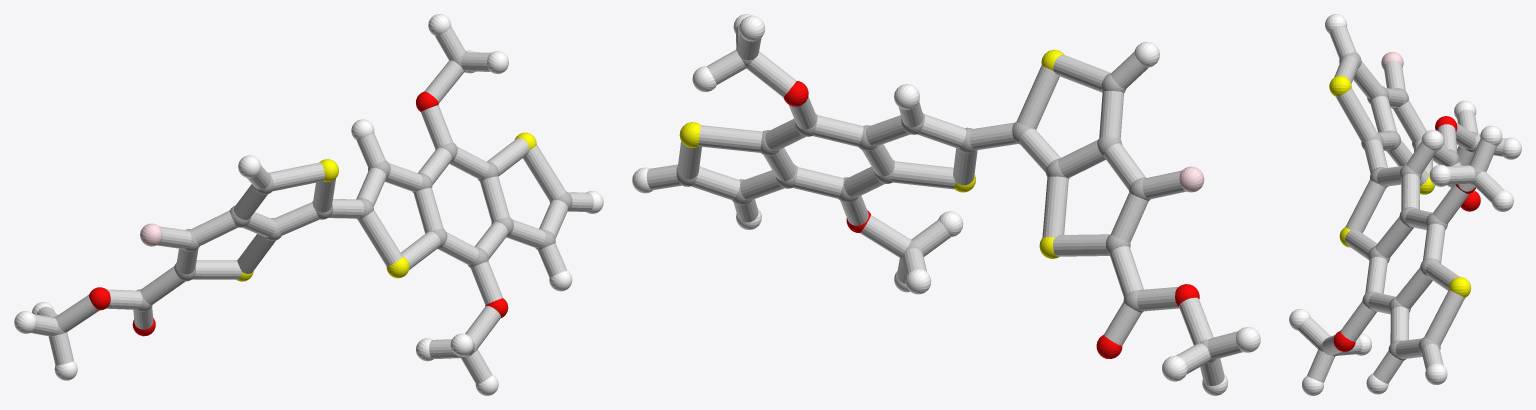
The model's file is Dimethoxy_Benzodithiophene_Phi_5_Theta_290_Methylcarbonyl_3_Fluoro_Thienothiophene.glb.
3 views of the same model, side by side, from view 1: azimuth 30°, elevation 25°; view 2: azimuth 150°, elevation 25°; view 3: azimuth 270°, elevation 25° (orthographic). The views are drawn at different scales.
Parts seen in each view (by area): view 1: grp15205, grp8689, grp1, grp13395, grp7241; view 2: grp15205, grp8689, grp1, grp13395, grp7241; view 3: grp15205, grp8689, grp1, grp7241, grp13395, grp14843.
Boxes of the visible parts, x1=… form: grp15205: x1=31, y1=26, x2=593, y2=384; grp8689: x1=14, y1=14, x2=603, y2=395; grp1: x1=52, y1=51, x2=572, y2=358; grp13395: x1=89, y1=91, x2=508, y2=336; grp7241: x1=236, y1=132, x2=536, y2=281; grp15205: x1=646, y1=25, x2=1243, y2=385; grp8689: x1=632, y1=14, x2=1260, y2=395; grp1: x1=676, y1=47, x2=1215, y2=363; grp13395: x1=783, y1=81, x2=1199, y2=358; grp7241: x1=679, y1=49, x2=1064, y2=258; grp15205: x1=1298, y1=26, x2=1505, y2=383; grp8689: x1=1289, y1=14, x2=1521, y2=395; grp1: x1=1318, y1=52, x2=1482, y2=360; grp7241: x1=1329, y1=75, x2=1470, y2=297; grp13395: x1=1333, y1=116, x2=1480, y2=351; grp14843: x1=1381, y1=52, x2=1403, y2=69.
Bounding box in the file's own units: 17.1 × 8.61 × 6.27.
